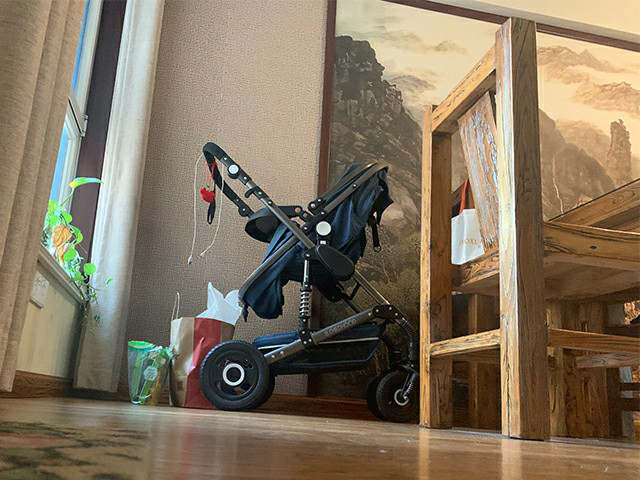carpet: (1, 417, 148, 480)
curtain: (75, 1, 164, 393), (1, 1, 82, 392)
stool: (417, 17, 640, 442)
